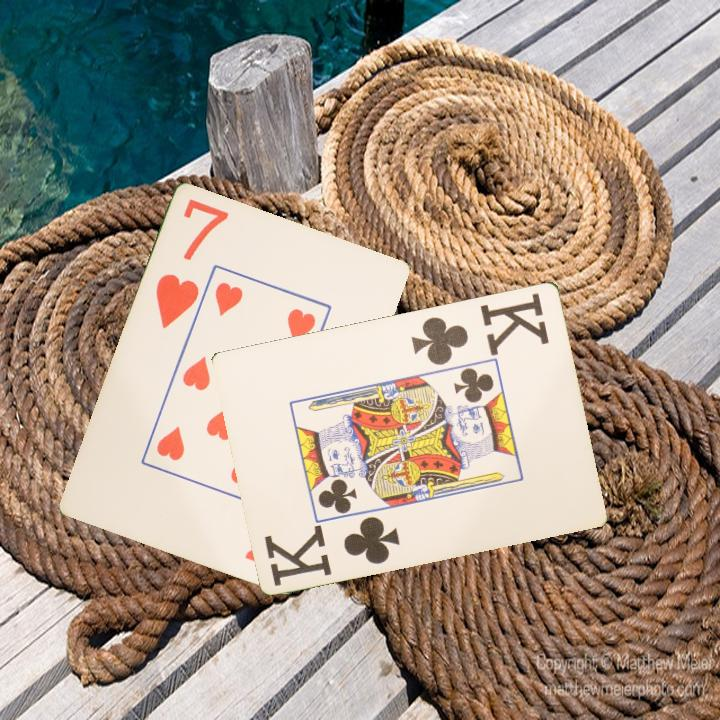7h: (152, 196, 231, 332)
Kc: (408, 288, 553, 368), (261, 512, 404, 589)
